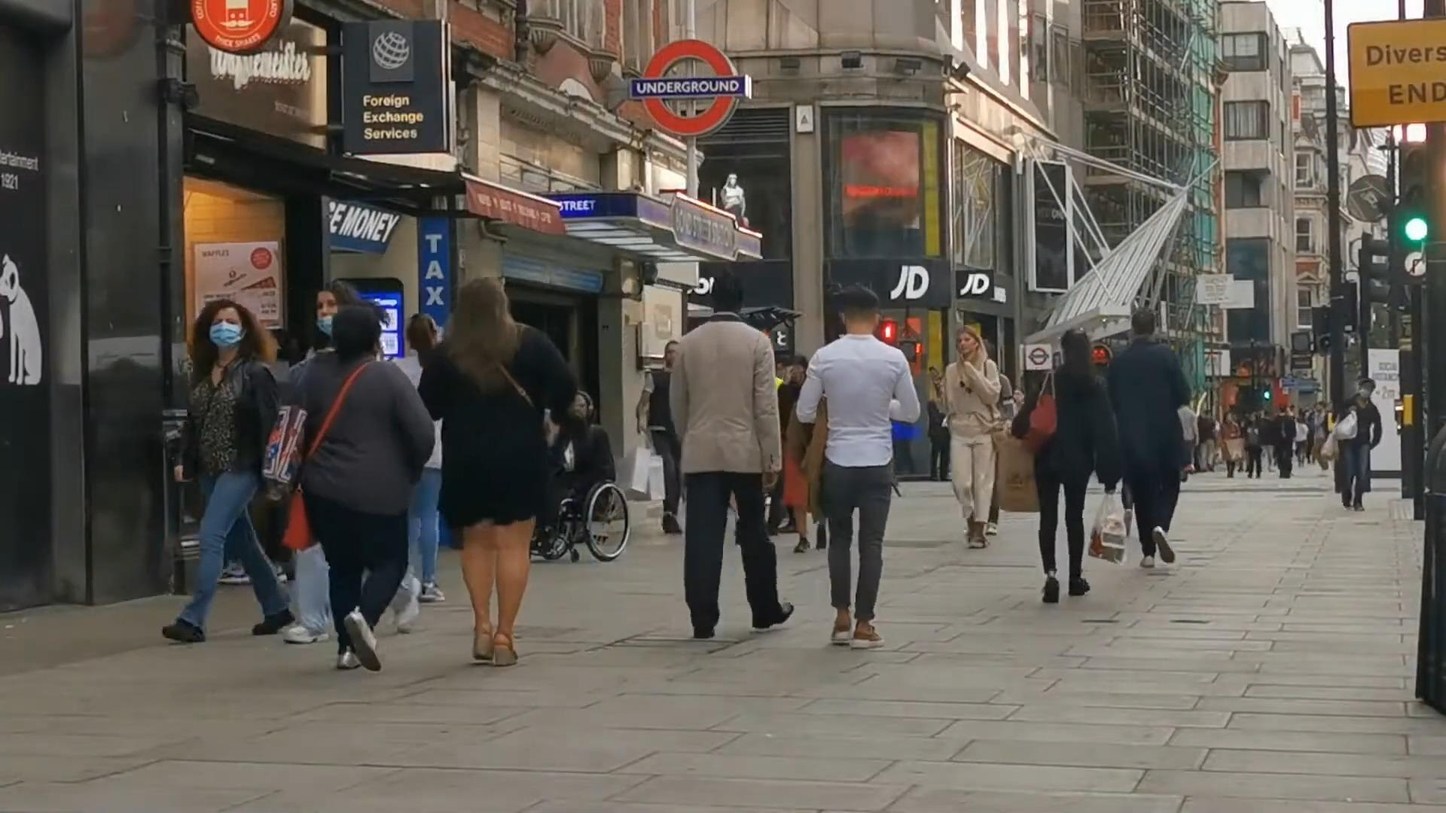no-helmet: (193, 300, 276, 350), (452, 276, 516, 334), (316, 279, 370, 336), (333, 305, 381, 363), (840, 286, 880, 334), (406, 313, 438, 360), (1061, 328, 1092, 373), (711, 273, 743, 314), (955, 326, 988, 360), (1131, 310, 1155, 336)
